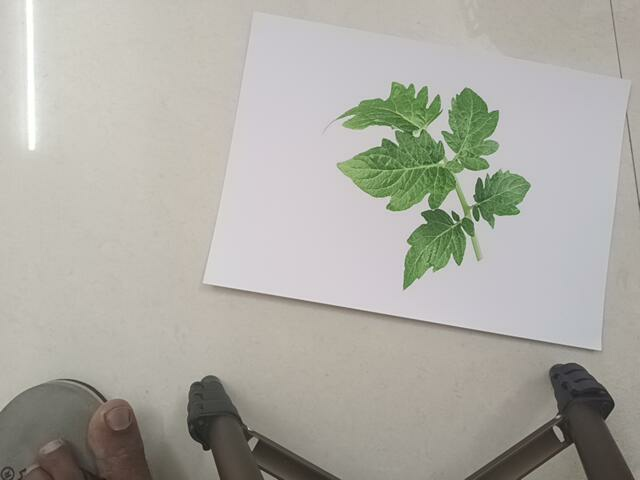Tomamto_Leaf_Healthy: (311, 83, 541, 282)
